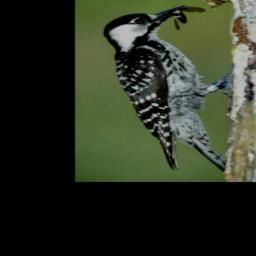Woodpecker: (102, 5, 226, 174)
